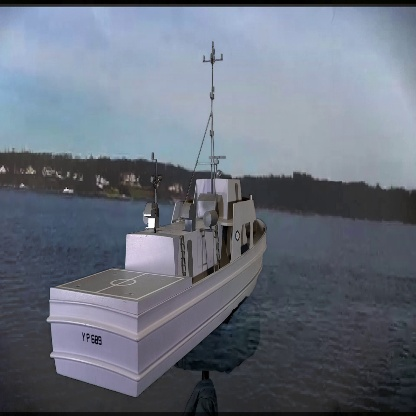YP689: (45, 39, 267, 392)
